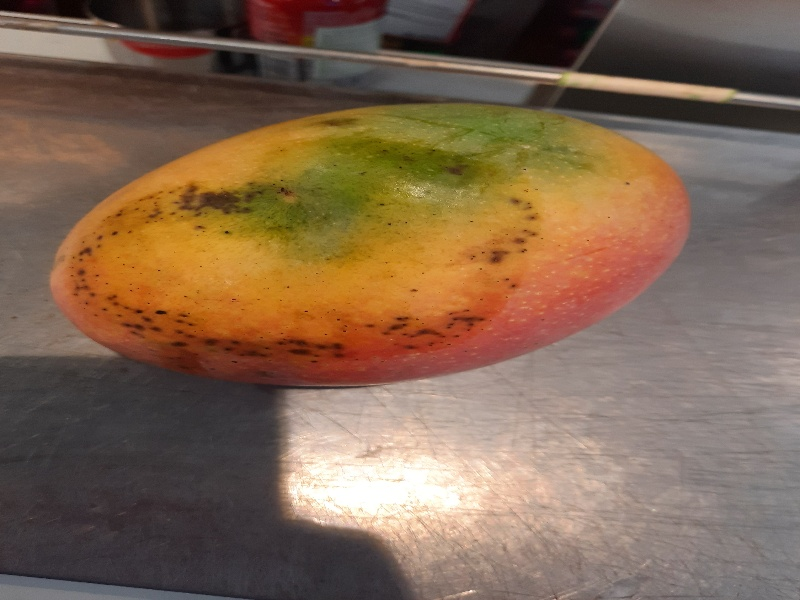fruit: (46, 94, 693, 391)
